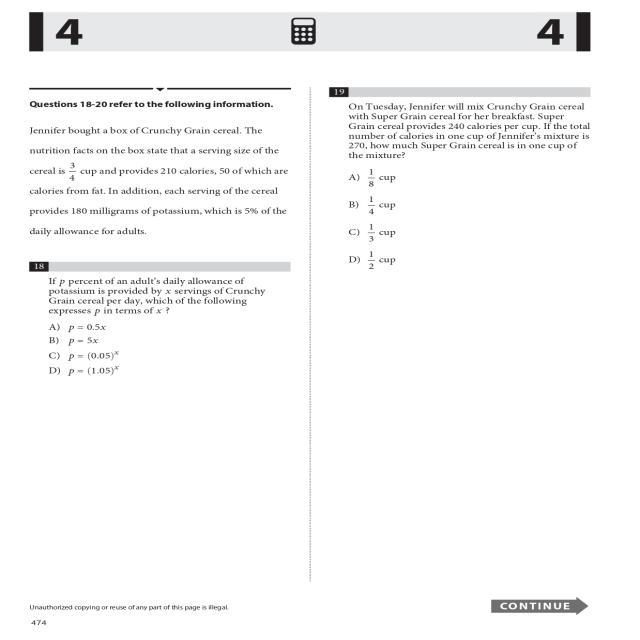Answer_Block: (317, 163, 598, 277), (27, 320, 305, 380)
Instruction: (27, 80, 305, 244)
Question_Answer_Block: (317, 80, 598, 278), (27, 258, 305, 380)
Question_Block: (317, 80, 598, 164), (27, 258, 305, 320)
Question_Paper_Area: (317, 81, 598, 578), (27, 81, 305, 578)
